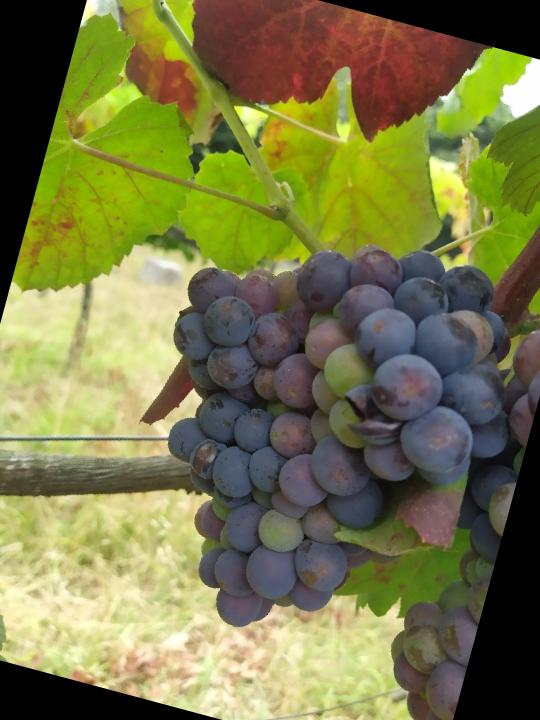grape: (96, 187, 540, 688)
